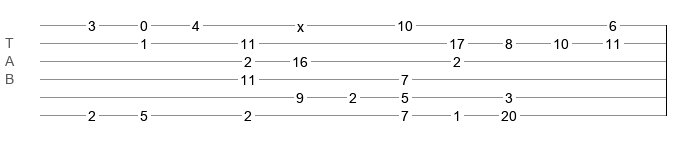0: (140, 18, 148, 28)
1: (140, 36, 148, 46), (453, 108, 461, 118)
10: (397, 18, 413, 28), (553, 36, 569, 46)
11: (240, 72, 256, 82), (240, 36, 256, 46), (605, 36, 621, 46)
16: (292, 54, 308, 64)
17: (449, 36, 465, 46)
2: (88, 108, 96, 118), (244, 54, 252, 64), (244, 108, 252, 118), (349, 90, 357, 100), (453, 54, 461, 64)
20: (501, 108, 517, 118)
3: (88, 18, 96, 28), (505, 90, 513, 100)
4: (192, 18, 200, 28)
5: (140, 108, 148, 118), (401, 90, 409, 100)
6: (609, 18, 617, 28)
7: (401, 72, 409, 82), (401, 108, 409, 118)
8: (505, 36, 513, 46)
9: (296, 90, 304, 100)
x: (297, 19, 304, 27)
